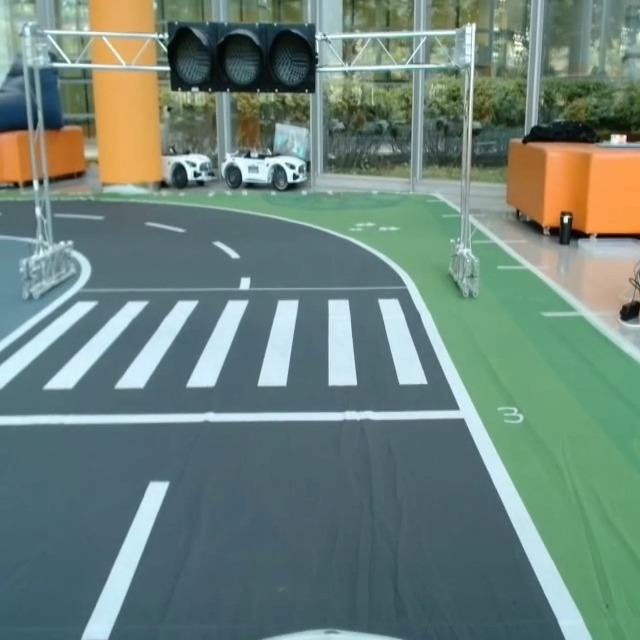traffic-light: (164, 22, 322, 98)
